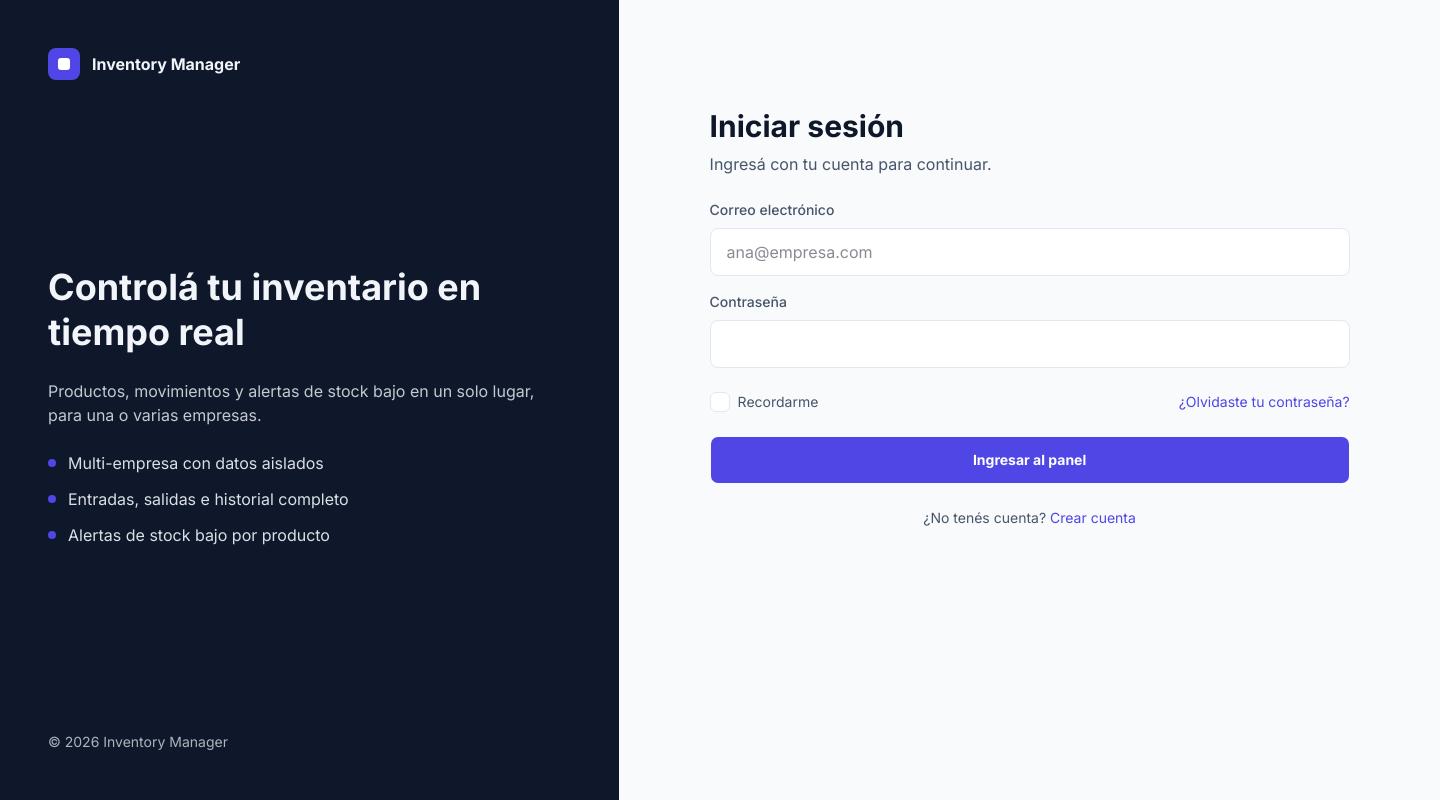
Test: login view › rejects a malformed email and clears the error once corrected
Type "ana@" into the field labelled "Correo electrónico" at (1030, 252), box [710, 228, 1350, 276]
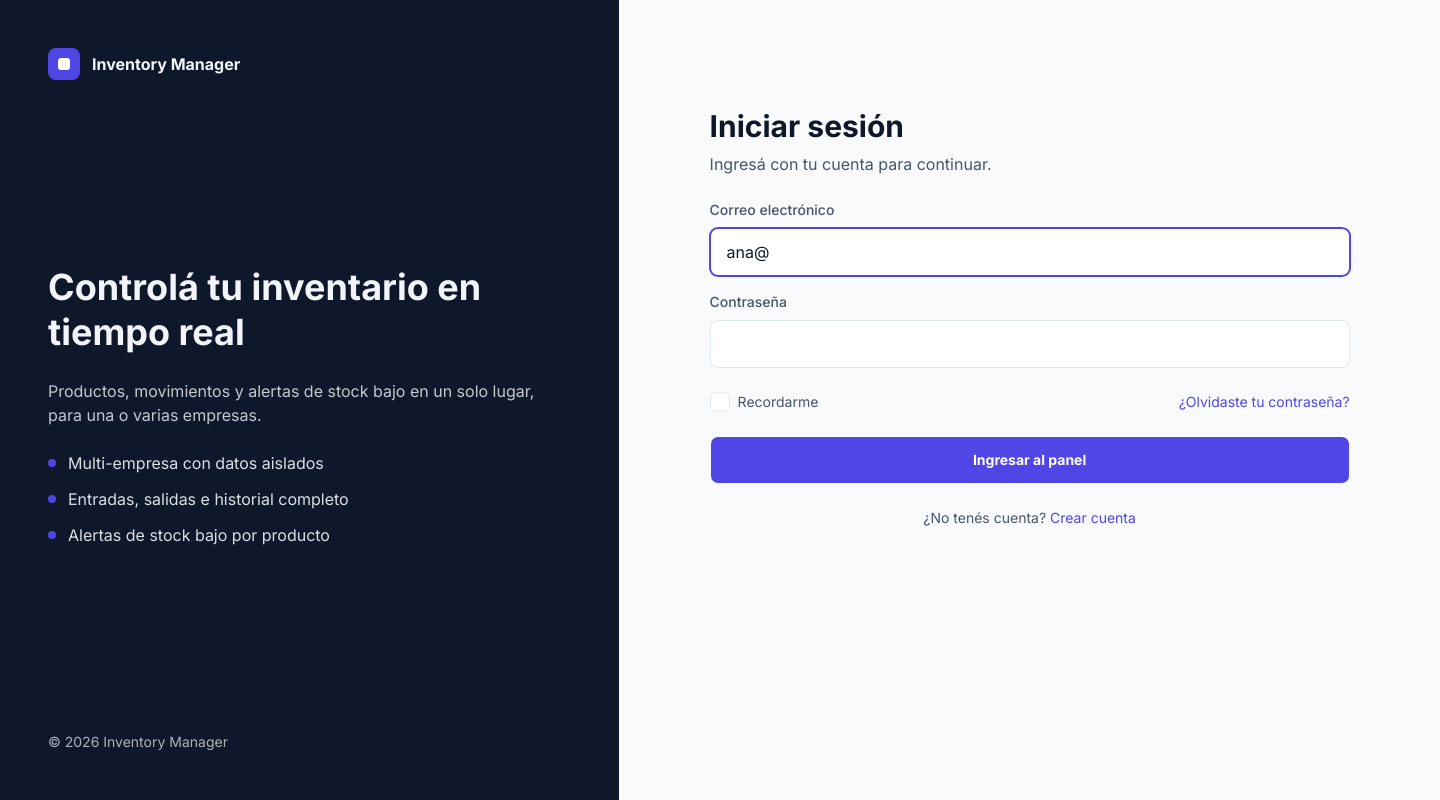
Type "unaClaveLarga" into the password field labelled "Contraseña" at (1030, 344), box [710, 320, 1350, 368]
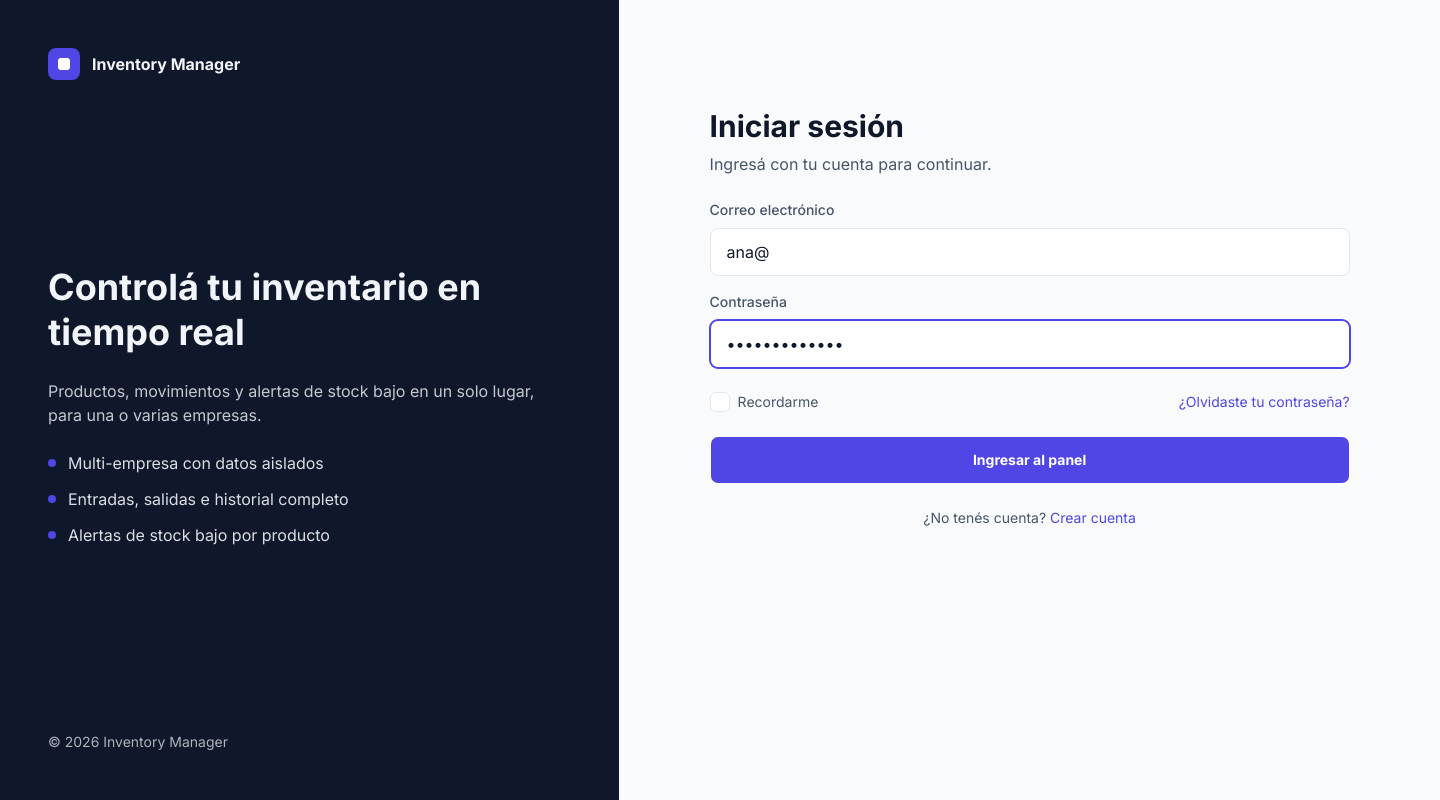
Click the button "Ingresar al panel" at (1030, 460), box [710, 436, 1350, 484]
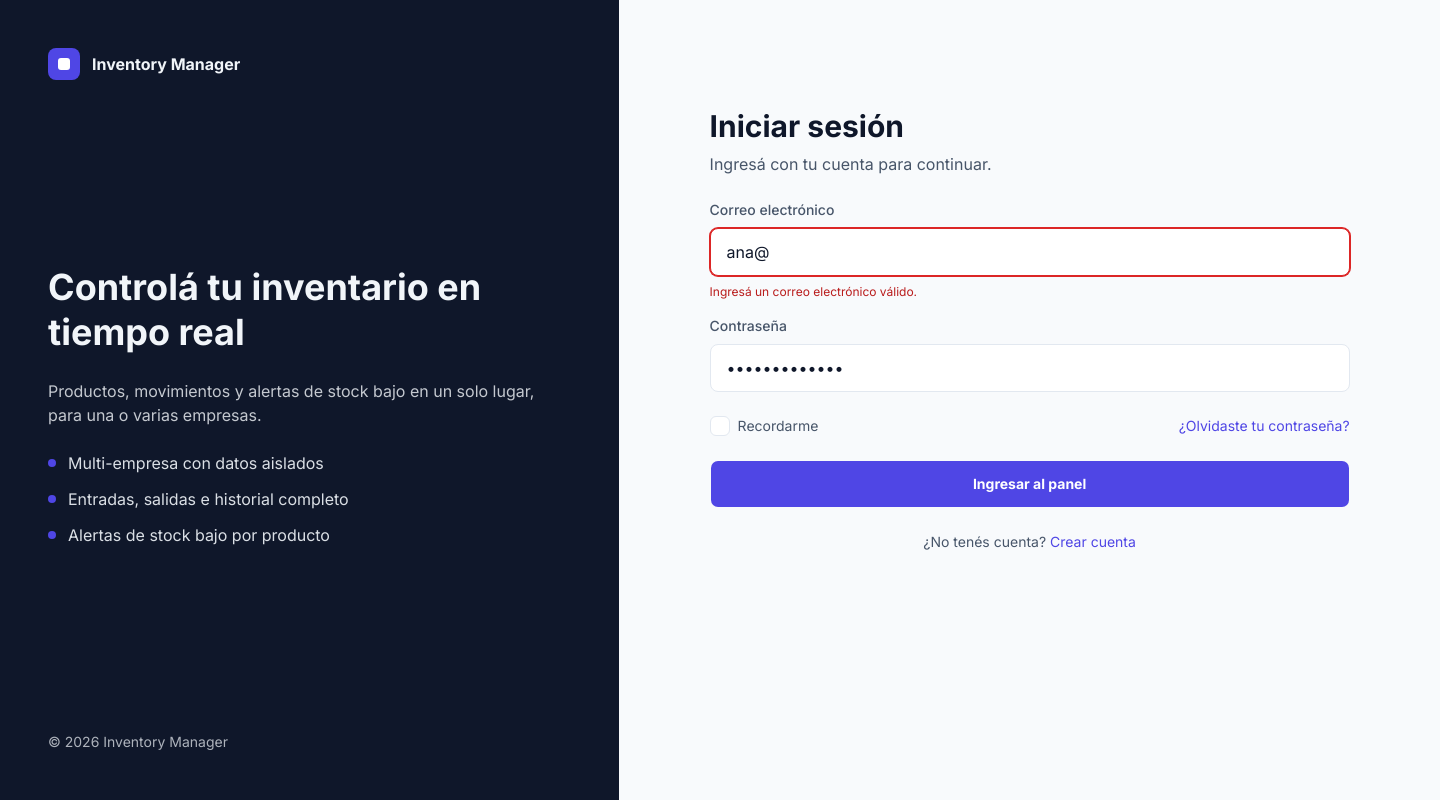
Expected: the text "Ingresá un correo electrónico válido." is shown, [710, 284, 917, 299]
Type "empresa.com" into the field labelled "Correo electrónico" at (1030, 252), box [710, 228, 1350, 276]
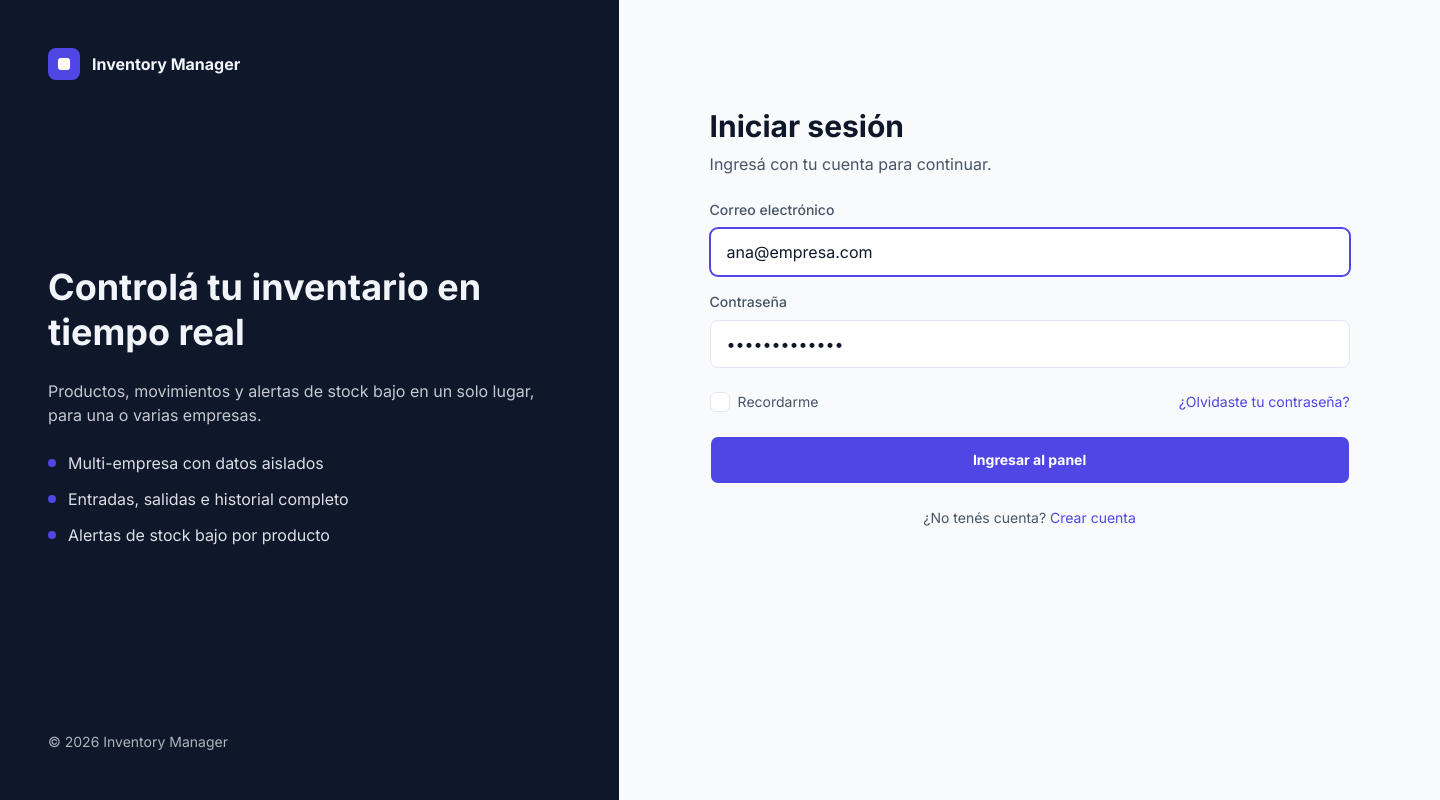
Expected: the text "Ingresá un correo electrónico válido." is gone
